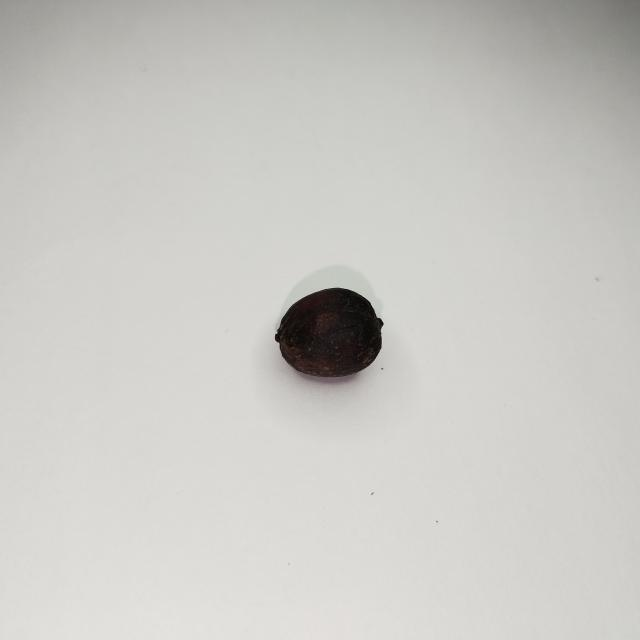Danado: (275, 290, 382, 375)
